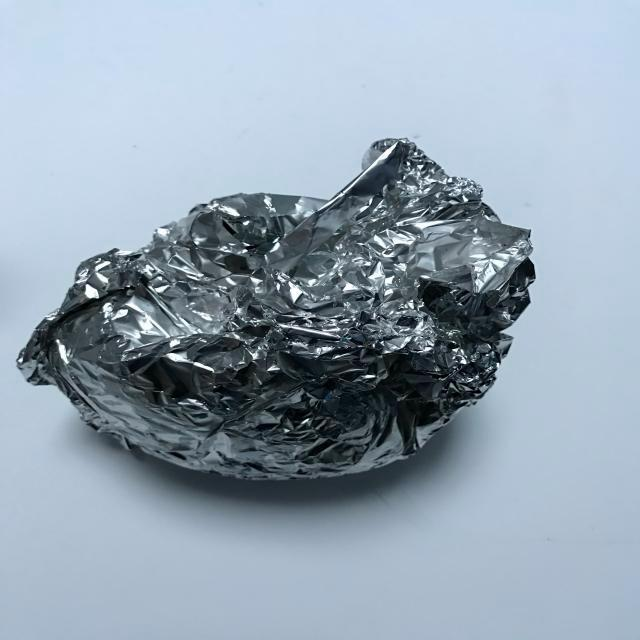metal: (11, 129, 566, 511)
